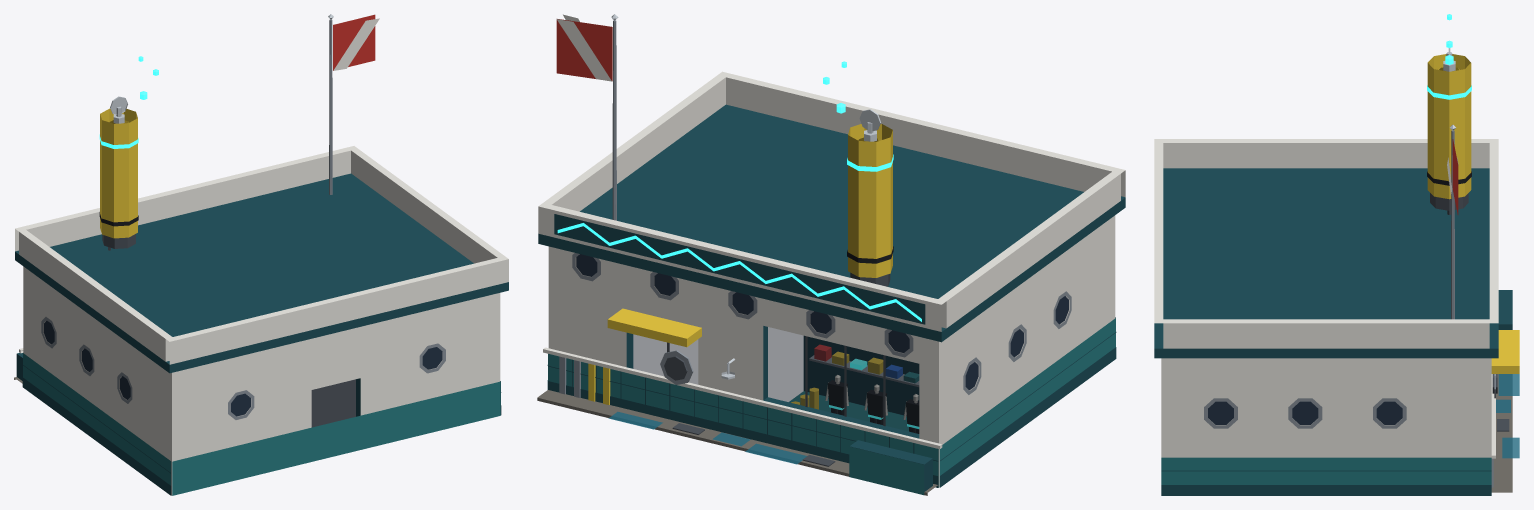
Rendered from scuba_shop.glb.
3 renders of one model, left to right at view 1: azimuth 30°, elevation 25°; view 2: azimuth 150°, elevation 25°; view 3: azimuth 270°, elevation 25°, orthographic. The views are drawn at different scales.
Parts seen in each view (by area): view 1: Body; view 2: Body; view 3: Body.
Boxes of the visible parts, x1,y1,x2,y2 form: Body: [14, 14, 508, 495]; Body: [537, 14, 1125, 495]; Body: [1154, 14, 1519, 495].
Size of what is drawn, in the model's own units: 12.5 by 11.2 by 10.4.
